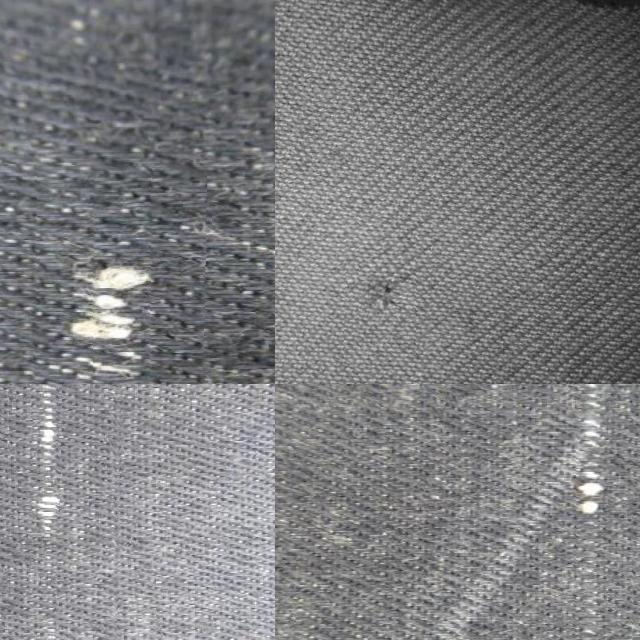other: (343, 216, 430, 354)
stains: (0, 164, 204, 384), (0, 384, 121, 640), (538, 384, 640, 640)
